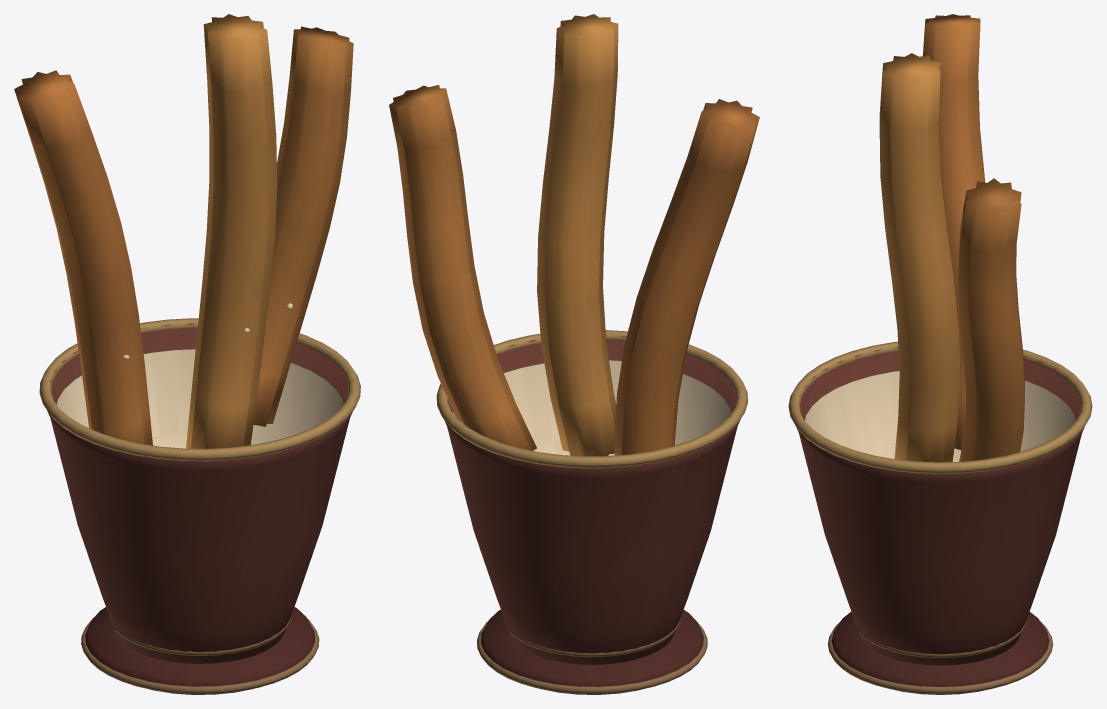
Rendered from churros.glb.
3 renders of one model, left to right at view 1: azimuth 30°, elevation 25°; view 2: azimuth 150°, elevation 25°; view 3: azimuth 270°, elevation 25°, orthographic. The views are drawn at different scales.
Visible parts, largest first — view 1: Burgundy_festival_cone, Ten_fluted_churro_1, Ten_fluted_churro_0, Ten_fluted_churro_2, Cream_cone_lining, Low_stable_fantasy_foot, Antique_brass_cone_rim, Foot_fine_molding, Lower_brass_band; view 2: Burgundy_festival_cone, Ten_fluted_churro_1, Ten_fluted_churro_2, Ten_fluted_churro_0, Low_stable_fantasy_foot, Antique_brass_cone_rim, Cream_cone_lining, Foot_fine_molding, Lower_brass_band; view 3: Burgundy_festival_cone, Ten_fluted_churro_1, Ten_fluted_churro_2, Ten_fluted_churro_0, Cream_cone_lining, Low_stable_fantasy_foot, Antique_brass_cone_rim, Foot_fine_molding, Lower_brass_band.
Part boxes in pixels (<box>): Burgundy_festival_cone: <box>47,323,352,663</box>; Ten_fluted_churro_1: <box>186,14,277,448</box>; Ten_fluted_churro_0: <box>14,70,152,445</box>; Ten_fluted_churro_2: <box>253,26,353,426</box>; Cream_cone_lining: <box>56,349,343,448</box>; Low_stable_fantasy_foot: <box>85,607,314,694</box>; Antique_brass_cone_rim: <box>39,318,360,461</box>; Foot_fine_molding: <box>81,617,319,694</box>; Lower_brass_band: <box>109,615,291,655</box>; Burgundy_festival_cone: <box>445,335,740,664</box>; Ten_fluted_churro_1: <box>537,14,618,456</box>; Ten_fluted_churro_2: <box>389,84,536,450</box>; Ten_fluted_churro_0: <box>614,99,759,455</box>; Low_stable_fantasy_foot: <box>481,609,703,694</box>; Antique_brass_cone_rim: <box>436,330,747,468</box>; Cream_cone_lining: <box>453,360,731,455</box>; Foot_fine_molding: <box>477,620,707,694</box>; Lower_brass_band: <box>504,618,680,657</box>; Burgundy_festival_cone: <box>796,346,1084,665</box>; Ten_fluted_churro_1: <box>879,53,960,462</box>; Ten_fluted_churro_2: <box>958,178,1024,461</box>; Ten_fluted_churro_0: <box>922,14,985,449</box>; Cream_cone_lining: <box>805,371,1075,461</box>; Low_stable_fantasy_foot: <box>831,611,1049,694</box>; Antique_brass_cone_rim: <box>788,341,1092,473</box>; Foot_fine_molding: <box>827,622,1053,694</box>; Lower_brass_band: <box>854,620,1026,657</box>.
Size of the model in its own units: 0.656 by 1.12 by 0.518.
